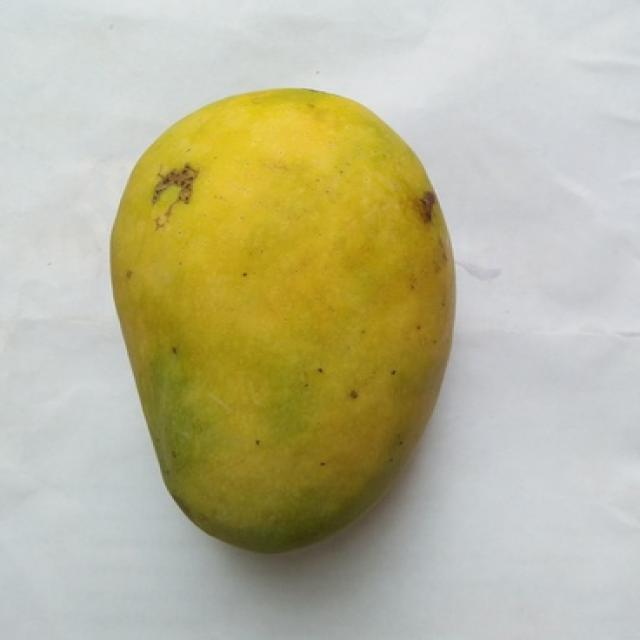Mango: (113, 88, 454, 552)
